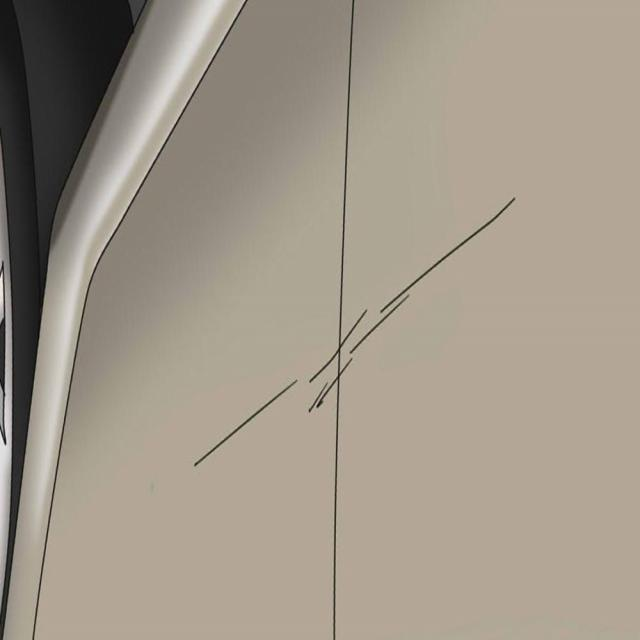scratch: (306, 188, 528, 429), (185, 368, 303, 478)
